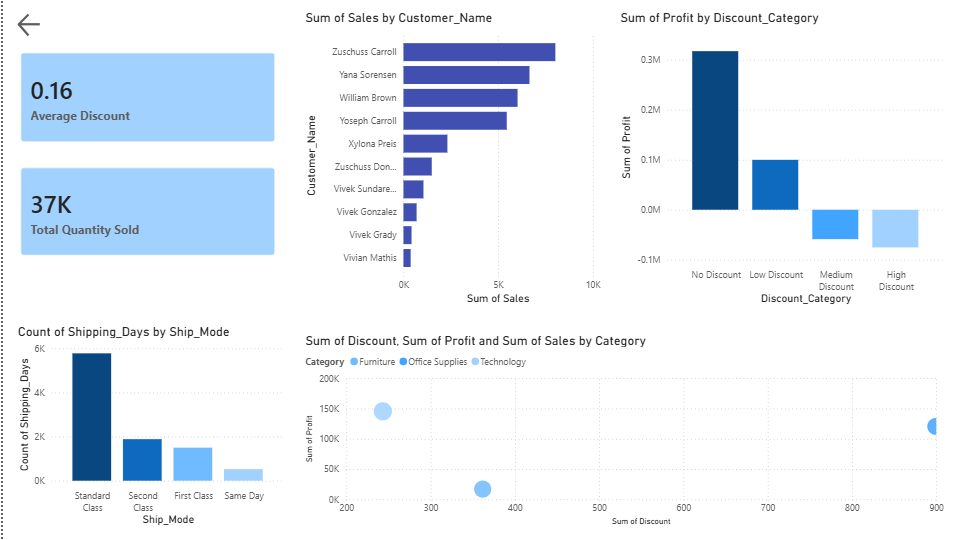

Layout of this report page (visuals, bound fields, positions):
{"tool":"powerbi","page":{"name":"Page 3: Customer & Discount Analysis","canvas":[1280,720],"ordinal":2},"visuals":[{"type":"barChart","fields":{"Category":["SALES.Customer_Name"],"Y":["Sum(SALES.Sales)"]},"box":[398.3,13.3,403.3,398.3],"z":0},{"type":"scatterChart","fields":{"X":["Sum(SALES.Discount)"],"Y":["Sum(SALES.Profit)"],"Series":["SALES.Category"],"Size":["Sum(SALES.Sales)"]},"box":[398.8,443.8,861.2,262.5],"z":1000},{"type":"columnChart","fields":{"Y":["Sum(SALES.Profit)"],"Category":["SALES.Discount_Category"]},"box":[818,14,442,398],"z":2000},{"type":"columnChart","fields":{"Category":["SALES.Ship_Mode"],"Y":["CountNonNull(SALES.Shipping_Days)"]},"box":[14.3,431.4,365.7,274.3],"z":3000},{"type":"cardVisual","fields":{"Data":["SALES.Average Discount"]},"box":[6.7,53.3,373.3,153.3],"z":4000},{"type":"cardVisual","fields":{"Data":["SALES.Total Quantity Sold"]},"box":[6.7,206.7,373.3,151.7],"z":5000},{"type":"actionButton","box":[15,13.3,63.3,40],"z":6000}]}

Visuals, with their boxes in screenshot pixels (x1, y1, x2, y2), scaled from the page's 1280x720 canvas onto the 962x540 screenshot:
barChart - SALES.Customer_Name x Sum(SALES.Sales): crop(299, 10, 602, 309)
scatterChart - Sum(SALES.Discount) x Sum(SALES.Profit): crop(300, 333, 947, 530)
columnChart - Sum(SALES.Profit) x SALES.Discount_Category: crop(615, 10, 947, 309)
columnChart - SALES.Ship_Mode x CountNonNull(SALES.Shipping_Days): crop(11, 324, 286, 529)
cardVisual - SALES.Average Discount: crop(5, 40, 286, 155)
cardVisual - SALES.Total Quantity Sold: crop(5, 155, 286, 269)
actionButton: crop(11, 10, 59, 40)
